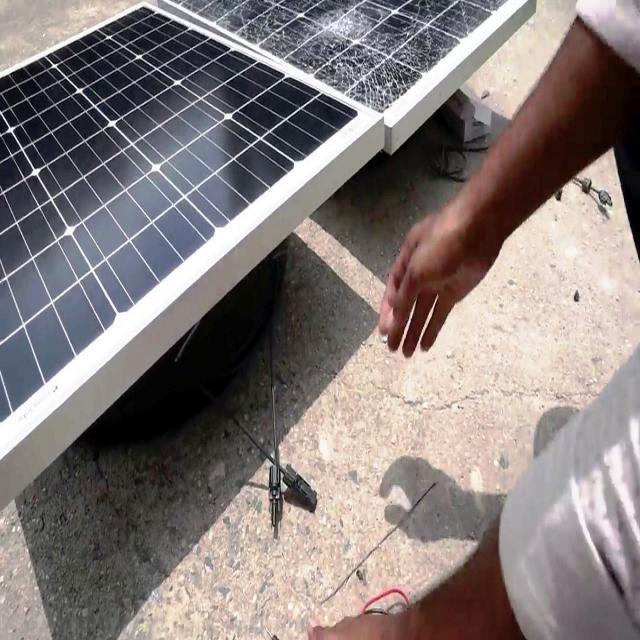faulty: (166, 0, 526, 118)
no faulty: (2, 6, 346, 473)
